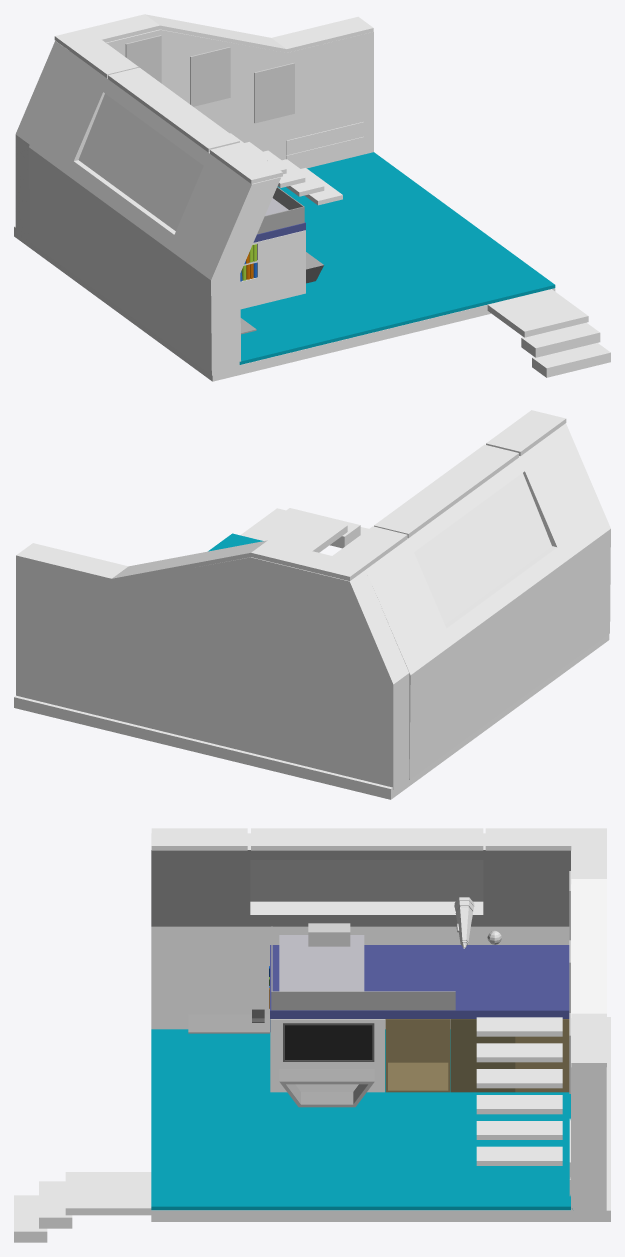
The model's file is Room.glb.
3 views of the same model, one above another, from view 1: azimuth 30°, elevation 25°; view 2: azimuth 150°, elevation 25°; view 3: azimuth 270°, elevation 25° (orthographic). The views are drawn at different scales.
Parts seen in each view (by area): view 1: Wall_left, Carpet_bottom, Wall_back, Window, Roof_3, Floor, Shelf_1, Roof_2, Stairs.003, Stairs.000, Picture.002, Picture.001 (+6 smaller); view 2: Wall_back, Wall_left, Window, Roof_3, Floor, Roof_2, Stairs.000, Roof_1, Stairs.003; view 3: Carpet_bottom, Wall_left, Carpet_top, Roof_3, Stairs.002, Window, Floor, Wall_back, Roof_2, Shelf_2, Mattress, Safety_Bar (+11 smaller).
Part boxes in pixels (<box>): Wall_left: <box>28,51,280,375</box>; Carpet_bottom: <box>239,152,555,364</box>; Wall_back: <box>15,29,373,240</box>; Window: <box>78,93,203,230</box>; Roof_3: <box>54,14,373,78</box>; Floor: <box>14,226,555,381</box>; Shelf_1: <box>240,230,305,309</box>; Roof_2: <box>108,67,239,152</box>; Stairs.003: <box>521,322,610,377</box>; Stairs.000: <box>487,289,588,337</box>; Picture.002: <box>254,63,294,123</box>; Picture.001: <box>190,47,230,106</box>; Wall_back: <box>16,557,409,789</box>; Wall_left: <box>366,423,610,779</box>; Window: <box>414,473,551,623</box>; Roof_3: <box>16,526,407,582</box>; Floor: <box>14,634,609,799</box>; Roof_2: <box>374,444,518,538</box>; Stairs.000: <box>240,508,347,552</box>; Roof_1: <box>486,410,566,455</box>; Stairs.003: <box>286,508,368,548</box>; Carpet_bottom: <box>151,1029,572,1210</box>; Wall_left: <box>151,833,570,1029</box>; Carpet_top: <box>270,945,569,1018</box>; Roof_3: <box>485,828,606,1067</box>; Stairs.002: <box>476,1017,562,1165</box>; Window: <box>250,860,483,901</box>; Floor: <box>151,1017,610,1221</box>; Wall_back: <box>571,851,606,1213</box>; Roof_2: <box>251,828,483,850</box>; Shelf_2: <box>385,1019,450,1092</box>; Mattress: <box>279,935,364,991</box>; Safety_Bar: <box>271,926,455,1010</box>.
Size of the model in its own units: 21.81 by 12.82 by 28.31.
